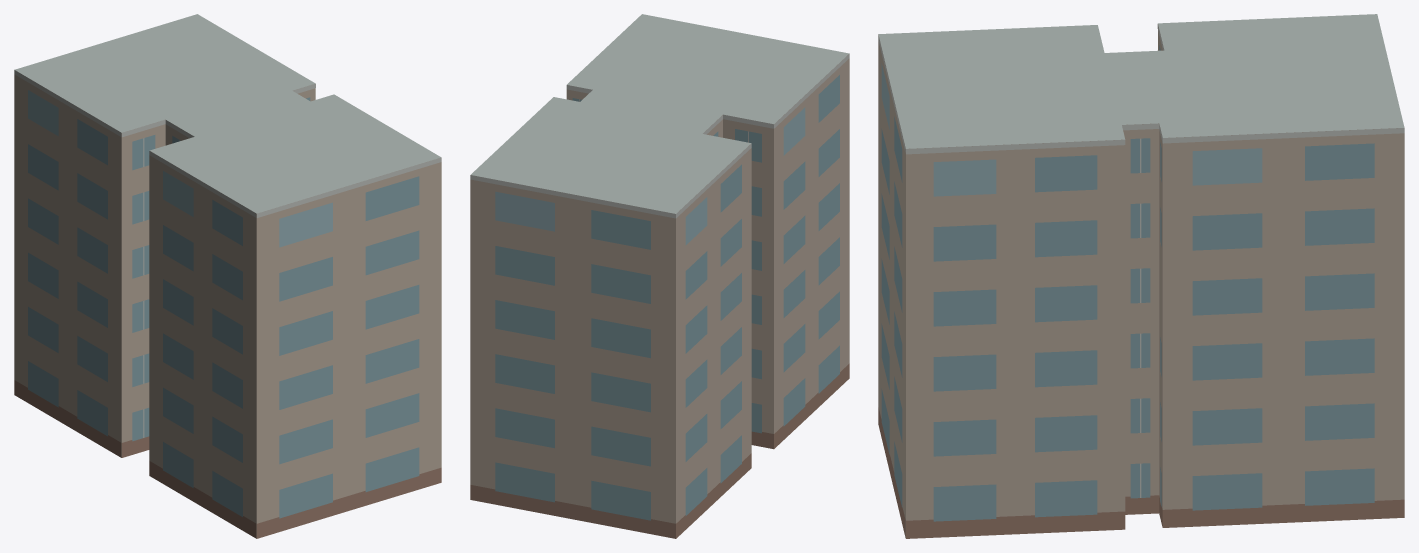
File: survey-upis-32667030.glb
The picture shows the model from 3 angles, left to right: view 1: azimuth 30°, elevation 25°; view 2: azimuth 150°, elevation 25°; view 3: azimuth 270°, elevation 25°; orthographic projection. The views are drawn at different scales.
Visible parts, largest first — view 1: survey-upis-32667030.tmp; view 2: survey-upis-32667030.tmp; view 3: survey-upis-32667030.tmp.
Part boxes in pixels (box(x1,y1,x2,y2)): survey-upis-32667030.tmp: box(14, 14, 441, 538); survey-upis-32667030.tmp: box(470, 14, 849, 538); survey-upis-32667030.tmp: box(878, 14, 1404, 538).
Bounding box in the file's own units: 12.84 × 17.3 × 21.16.
